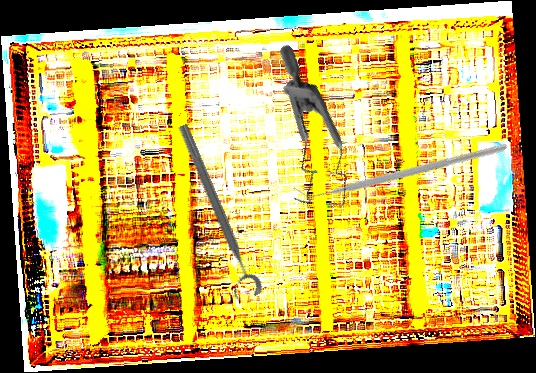Chopper: (293, 59, 508, 276)
Fixation Ring: (164, 121, 265, 304)
Speculum: (212, 43, 398, 227)
